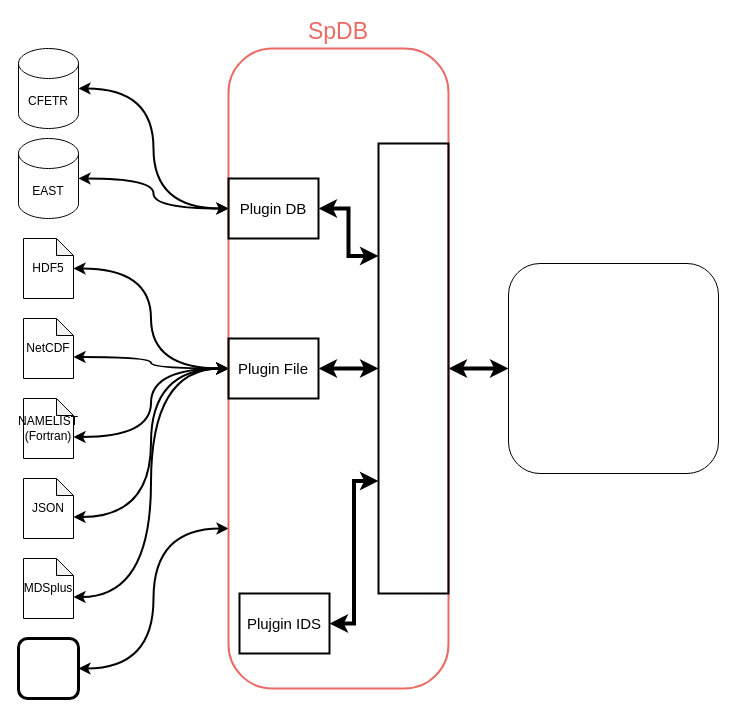
Some shapes in this 736 by 717 pixel diagram are drawn without their labels. The centre of each missing label's shape, as x and y in pixels:
"Data Mapping" goes at point 413,368.
"IMAS DD Python dict+list+numpy.ndarray" goes at point 613,368.
"IMAS IDS" goes at point 48,668.
